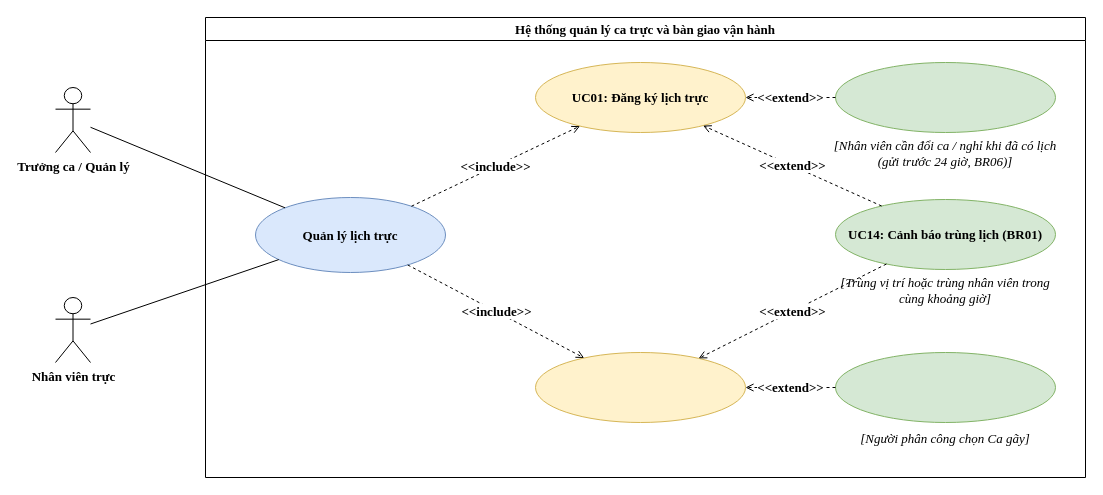
The diagram is 1103 pixels wide and 495 high, and some of its shapes have lost their labels. Here are the shapes that lost their labels. From the top down, the centre of each, then its label:
At (945,97): "UC09/UC10: Đăng ký đổi ca / nghỉ phép".
At (640,387): "UC02: Phân công lịch trực".
At (945,387): "UC13: Nhập giờ ca gãy".
